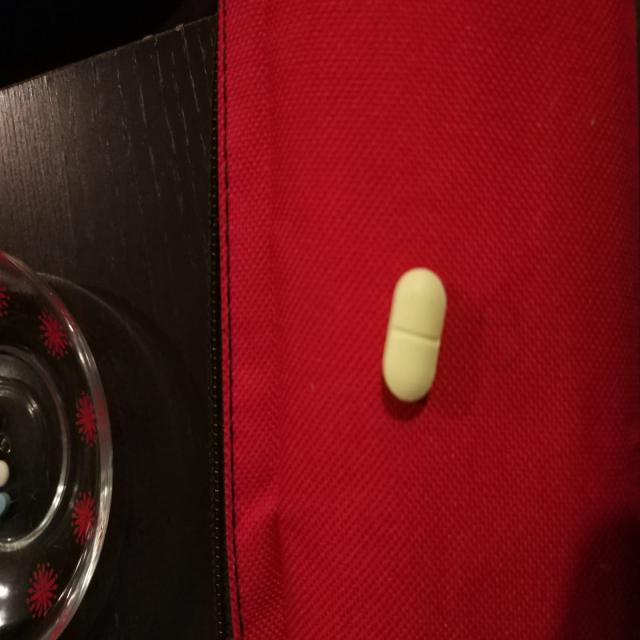pills: (376, 257, 451, 418)
